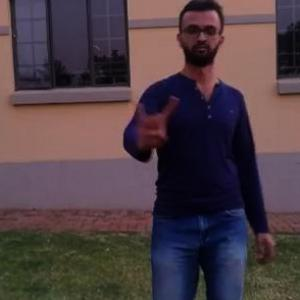takeoff-hand: (126, 85, 179, 156)
